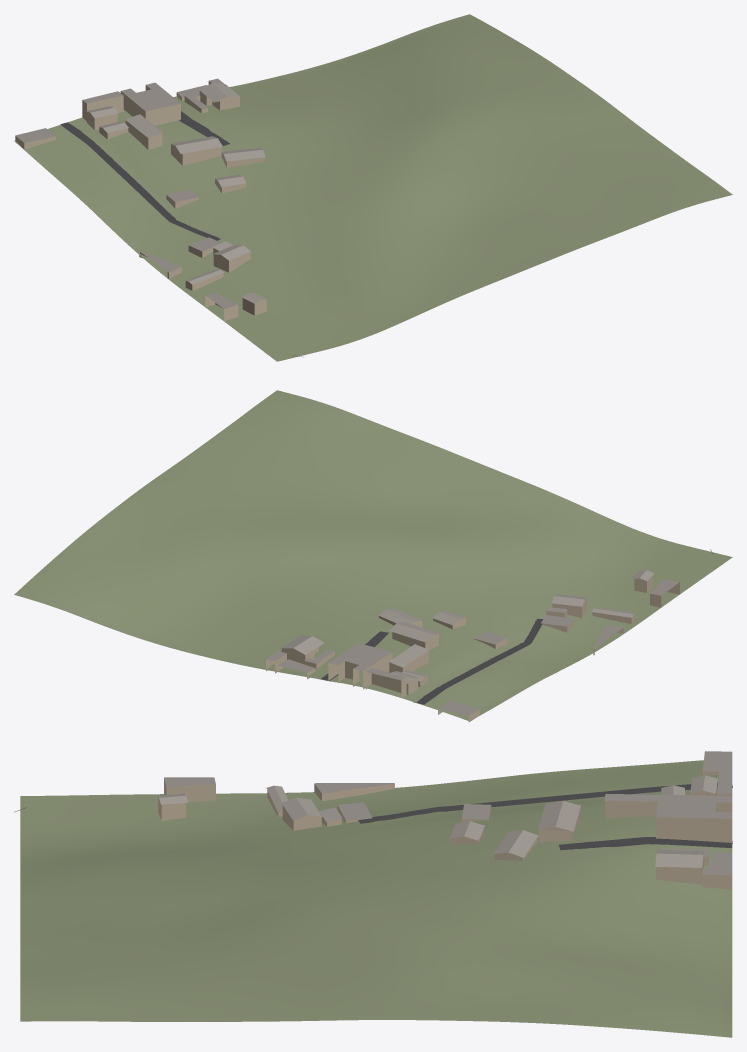
3 views of the same model, one above another, from view 1: azimuth 30°, elevation 25°; view 2: azimuth 150°, elevation 25°; view 3: azimuth 270°, elevation 25° (orthographic). The views are drawn at different scales.
Visible parts, largest first — view 1: ground, walls, sheetRoofs, roofs, road; view 2: ground, walls, sheetRoofs, roofs, road; view 3: ground, walls, sheetRoofs, roofs, road.
Part boxes in pixels (x1,y1,x2,y2): ground: (14, 14, 732, 361); walls: (15, 81, 266, 321); sheetRoofs: (86, 83, 266, 303); roofs: (15, 78, 237, 308); road: (60, 111, 303, 357); ground: (14, 390, 732, 721); walls: (266, 574, 679, 722); sheetRoofs: (281, 570, 653, 683); roofs: (266, 579, 679, 715); road: (321, 549, 712, 704); ground: (20, 760, 732, 1037); walls: (158, 770, 732, 889); sheetRoofs: (157, 775, 717, 867); roofs: (164, 751, 732, 875); road: (14, 782, 732, 850).
Bounding box in the file's own units: 250 × 29.88 × 252.
